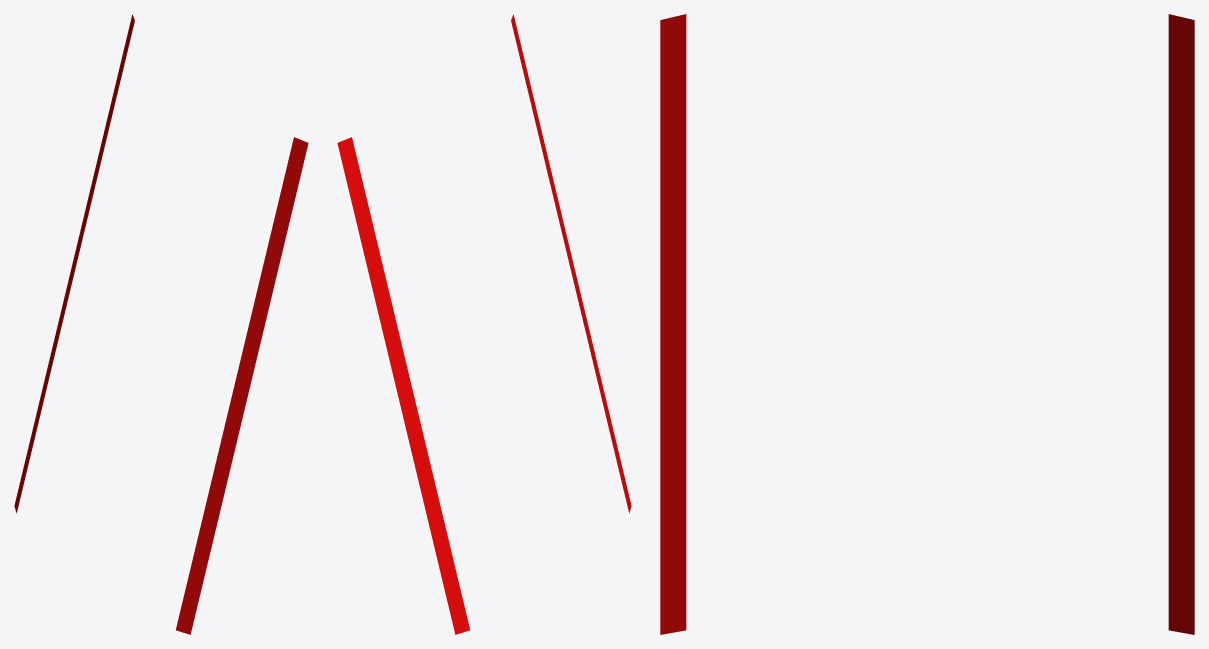
3 views of the same model, side by side, from view 1: azimuth 30°, elevation 25°; view 2: azimuth 150°, elevation 25°; view 3: azimuth 270°, elevation 25° (orthographic). The views are drawn at different scales.
Visible parts, largest first — view 1: Object; view 2: Object; view 3: Object.
Boxes of the visible parts, x1=… form: Object: x1=14, y1=14, x2=308, y2=634; Object: x1=337, y1=14, x2=631, y2=634; Object: x1=660, y1=14, x2=1194, y2=634.
Bounding box in the file's own units: 0.4828 × 1.19 × 1.72.
